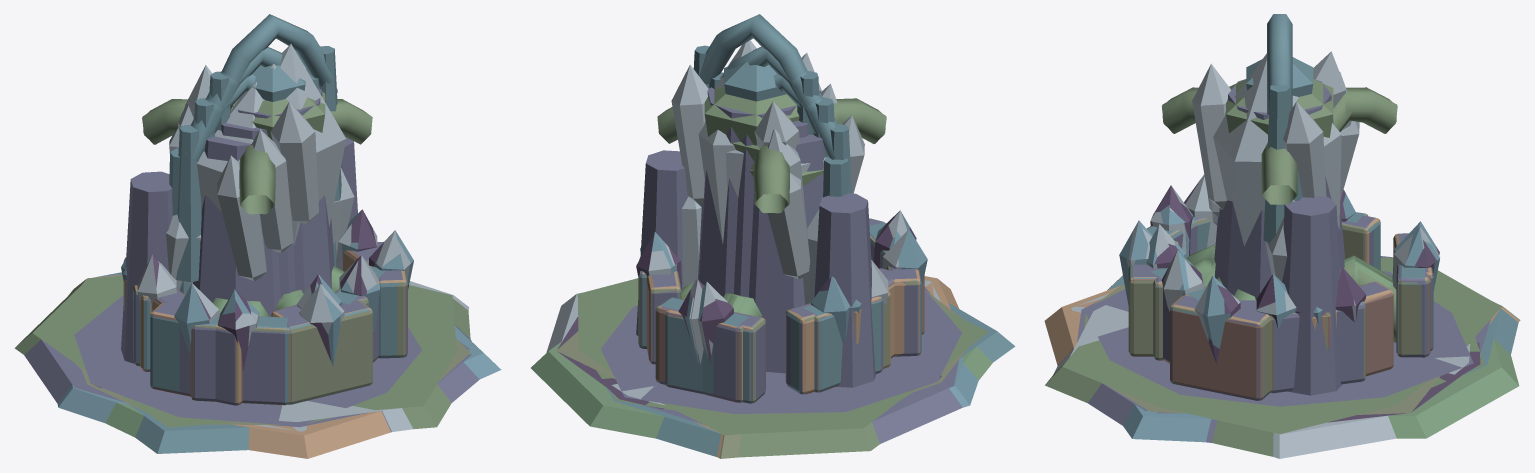
Rendered from stronghold-kit.glb.
The picture shows the model from 3 angles, left to right: view 1: azimuth 30°, elevation 25°; view 2: azimuth 150°, elevation 25°; view 3: azimuth 270°, elevation 25°; orthographic projection. The views are drawn at different scales.
Visible parts, largest first — view 1: STRONGHOLD_ANCIENT_JUNGLE_V2_BASE_MESH, STRONGHOLD_THUNDER_HIGHLANDS_V0_BASE_MESH, STRONGHOLD_THUNDER_HIGHLANDS_V2_LIVE_MESH, STRONGHOLD_LIQUID_BLU_METAL_SEA_V2_BASE_MESH, STRONGHOLD_THUNDER_HIGHLANDS_V2_BASE_MESH, STRONGHOLD_LIQUID_BLU_METAL_SEA_V2_APEX_MESH, STRONGHOLD_TOXIC_EXPANSE_V0_BASE_MESH, STRONGHOLD_THUNDER_HIGHLANDS_V0_LIVE_MESH, STRONGHOLD_THUNDER_HIGHLANDS_V1_BASE_MESH, STRONGHOLD_WHISPERING_DESERT_V2_BASE_MESH, STRONGHOLD_FROZEN_CROWN_V2_LIVE_MESH, STRONGHOLD_FROZEN_CROWN_V2_APEX_MESH (+24 smaller); view 2: STRONGHOLD_THUNDER_HIGHLANDS_V2_LIVE_MESH, STRONGHOLD_THUNDER_HIGHLANDS_V0_BASE_MESH, STRONGHOLD_ANCIENT_JUNGLE_V2_BASE_MESH, STRONGHOLD_THUNDER_HIGHLANDS_V0_LIVE_MESH, STRONGHOLD_LIQUID_BLU_METAL_SEA_V2_BASE_MESH, STRONGHOLD_THUNDER_HIGHLANDS_V2_BASE_MESH, STRONGHOLD_LIQUID_BLU_METAL_SEA_V2_APEX_MESH, STRONGHOLD_EMERALD_WILDS_V2_BASE_MESH, STRONGHOLD_FROZEN_CROWN_V2_APEX_MESH, STRONGHOLD_THUNDER_HIGHLANDS_V1_LIVE_MESH, STRONGHOLD_LIQUID_BLU_METAL_SEA_V1_BASE_MESH, STRONGHOLD_FROZEN_CROWN_V0_APEX_MESH (+25 smaller); view 3: STRONGHOLD_ANCIENT_JUNGLE_V2_BASE_MESH, STRONGHOLD_THUNDER_HIGHLANDS_V2_LIVE_MESH, STRONGHOLD_THUNDER_HIGHLANDS_V0_BASE_MESH, STRONGHOLD_MOLTEN_WASTES_V2_BASE_MESH, STRONGHOLD_FROZEN_CROWN_V2_LIVE_MESH, STRONGHOLD_FROZEN_CROWN_V2_APEX_MESH, STRONGHOLD_FROZEN_CROWN_V2_BASE_MESH, STRONGHOLD_EMERALD_WILDS_V2_BASE_MESH, STRONGHOLD_THUNDER_HIGHLANDS_V1_BASE_MESH, STRONGHOLD_LIQUID_BLU_METAL_SEA_V2_APEX_MESH, STRONGHOLD_CRYSTAL_BASIN_V2_BASE_MESH, STRONGHOLD_THUNDER_HIGHLANDS_V2_BASE_MESH (+20 smaller).
Part boxes in pixels (bbox=[...]): STRONGHOLD_ANCIENT_JUNGLE_V2_BASE_MESH: bbox=[14, 276, 470, 429]; STRONGHOLD_THUNDER_HIGHLANDS_V0_BASE_MESH: bbox=[74, 248, 422, 426]; STRONGHOLD_THUNDER_HIGHLANDS_V2_LIVE_MESH: bbox=[121, 88, 356, 363]; STRONGHOLD_LIQUID_BLU_METAL_SEA_V2_BASE_MESH: bbox=[94, 271, 407, 453]; STRONGHOLD_THUNDER_HIGHLANDS_V2_BASE_MESH: bbox=[24, 242, 479, 427]; STRONGHOLD_LIQUID_BLU_METAL_SEA_V2_APEX_MESH: bbox=[209, 14, 341, 201]; STRONGHOLD_TOXIC_EXPANSE_V0_BASE_MESH: bbox=[124, 263, 372, 403]; STRONGHOLD_THUNDER_HIGHLANDS_V0_LIVE_MESH: bbox=[166, 136, 345, 316]; STRONGHOLD_THUNDER_HIGHLANDS_V1_BASE_MESH: bbox=[125, 258, 471, 432]; STRONGHOLD_WHISPERING_DESERT_V2_BASE_MESH: bbox=[92, 242, 406, 458]; STRONGHOLD_FROZEN_CROWN_V2_LIVE_MESH: bbox=[166, 44, 346, 274]; STRONGHOLD_FROZEN_CROWN_V2_APEX_MESH: bbox=[187, 65, 337, 224]; STRONGHOLD_THUNDER_HIGHLANDS_V2_LIVE_MESH: bbox=[636, 87, 875, 387]; STRONGHOLD_THUNDER_HIGHLANDS_V0_BASE_MESH: bbox=[601, 218, 961, 413]; STRONGHOLD_ANCIENT_JUNGLE_V2_BASE_MESH: bbox=[577, 278, 988, 457]; STRONGHOLD_THUNDER_HIGHLANDS_V0_LIVE_MESH: bbox=[651, 134, 841, 386]; STRONGHOLD_LIQUID_BLU_METAL_SEA_V2_BASE_MESH: bbox=[606, 268, 1015, 456]; STRONGHOLD_THUNDER_HIGHLANDS_V2_BASE_MESH: bbox=[583, 267, 962, 443]; STRONGHOLD_LIQUID_BLU_METAL_SEA_V2_APEX_MESH: bbox=[693, 14, 819, 134]; STRONGHOLD_EMERALD_WILDS_V2_BASE_MESH: bbox=[531, 281, 992, 438]; STRONGHOLD_FROZEN_CROWN_V2_APEX_MESH: bbox=[671, 53, 821, 207]; STRONGHOLD_THUNDER_HIGHLANDS_V1_LIVE_MESH: bbox=[646, 120, 867, 297]; STRONGHOLD_LIQUID_BLU_METAL_SEA_V1_BASE_MESH: bbox=[639, 223, 888, 402]; STRONGHOLD_FROZEN_CROWN_V0_APEX_MESH: bbox=[767, 115, 864, 279]; STRONGHOLD_ANCIENT_JUNGLE_V2_BASE_MESH: bbox=[1045, 257, 1500, 456]; STRONGHOLD_THUNDER_HIGHLANDS_V2_LIVE_MESH: bbox=[1215, 79, 1343, 395]; STRONGHOLD_THUNDER_HIGHLANDS_V0_BASE_MESH: bbox=[1084, 264, 1473, 406]; STRONGHOLD_MOLTEN_WASTES_V2_BASE_MESH: bbox=[1170, 232, 1491, 400]; STRONGHOLD_FROZEN_CROWN_V2_LIVE_MESH: bbox=[1213, 53, 1341, 274]; STRONGHOLD_FROZEN_CROWN_V2_APEX_MESH: bbox=[1192, 51, 1346, 209]; STRONGHOLD_FROZEN_CROWN_V2_BASE_MESH: bbox=[1053, 174, 1470, 458]; STRONGHOLD_EMERALD_WILDS_V2_BASE_MESH: bbox=[1202, 255, 1519, 438]; STRONGHOLD_THUNDER_HIGHLANDS_V1_BASE_MESH: bbox=[1057, 225, 1428, 442]; STRONGHOLD_LIQUID_BLU_METAL_SEA_V2_APEX_MESH: bbox=[1246, 14, 1313, 242]; STRONGHOLD_CRYSTAL_BASIN_V2_BASE_MESH: bbox=[1123, 194, 1438, 442]; STRONGHOLD_THUNDER_HIGHLANDS_V2_BASE_MESH: bbox=[1077, 215, 1490, 425].
Bounding box in the file's own units: 0.9412 × 0.8396 × 0.9226.
